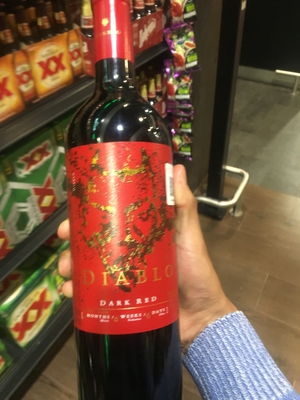diablo dark red: (64, 26, 188, 399)
